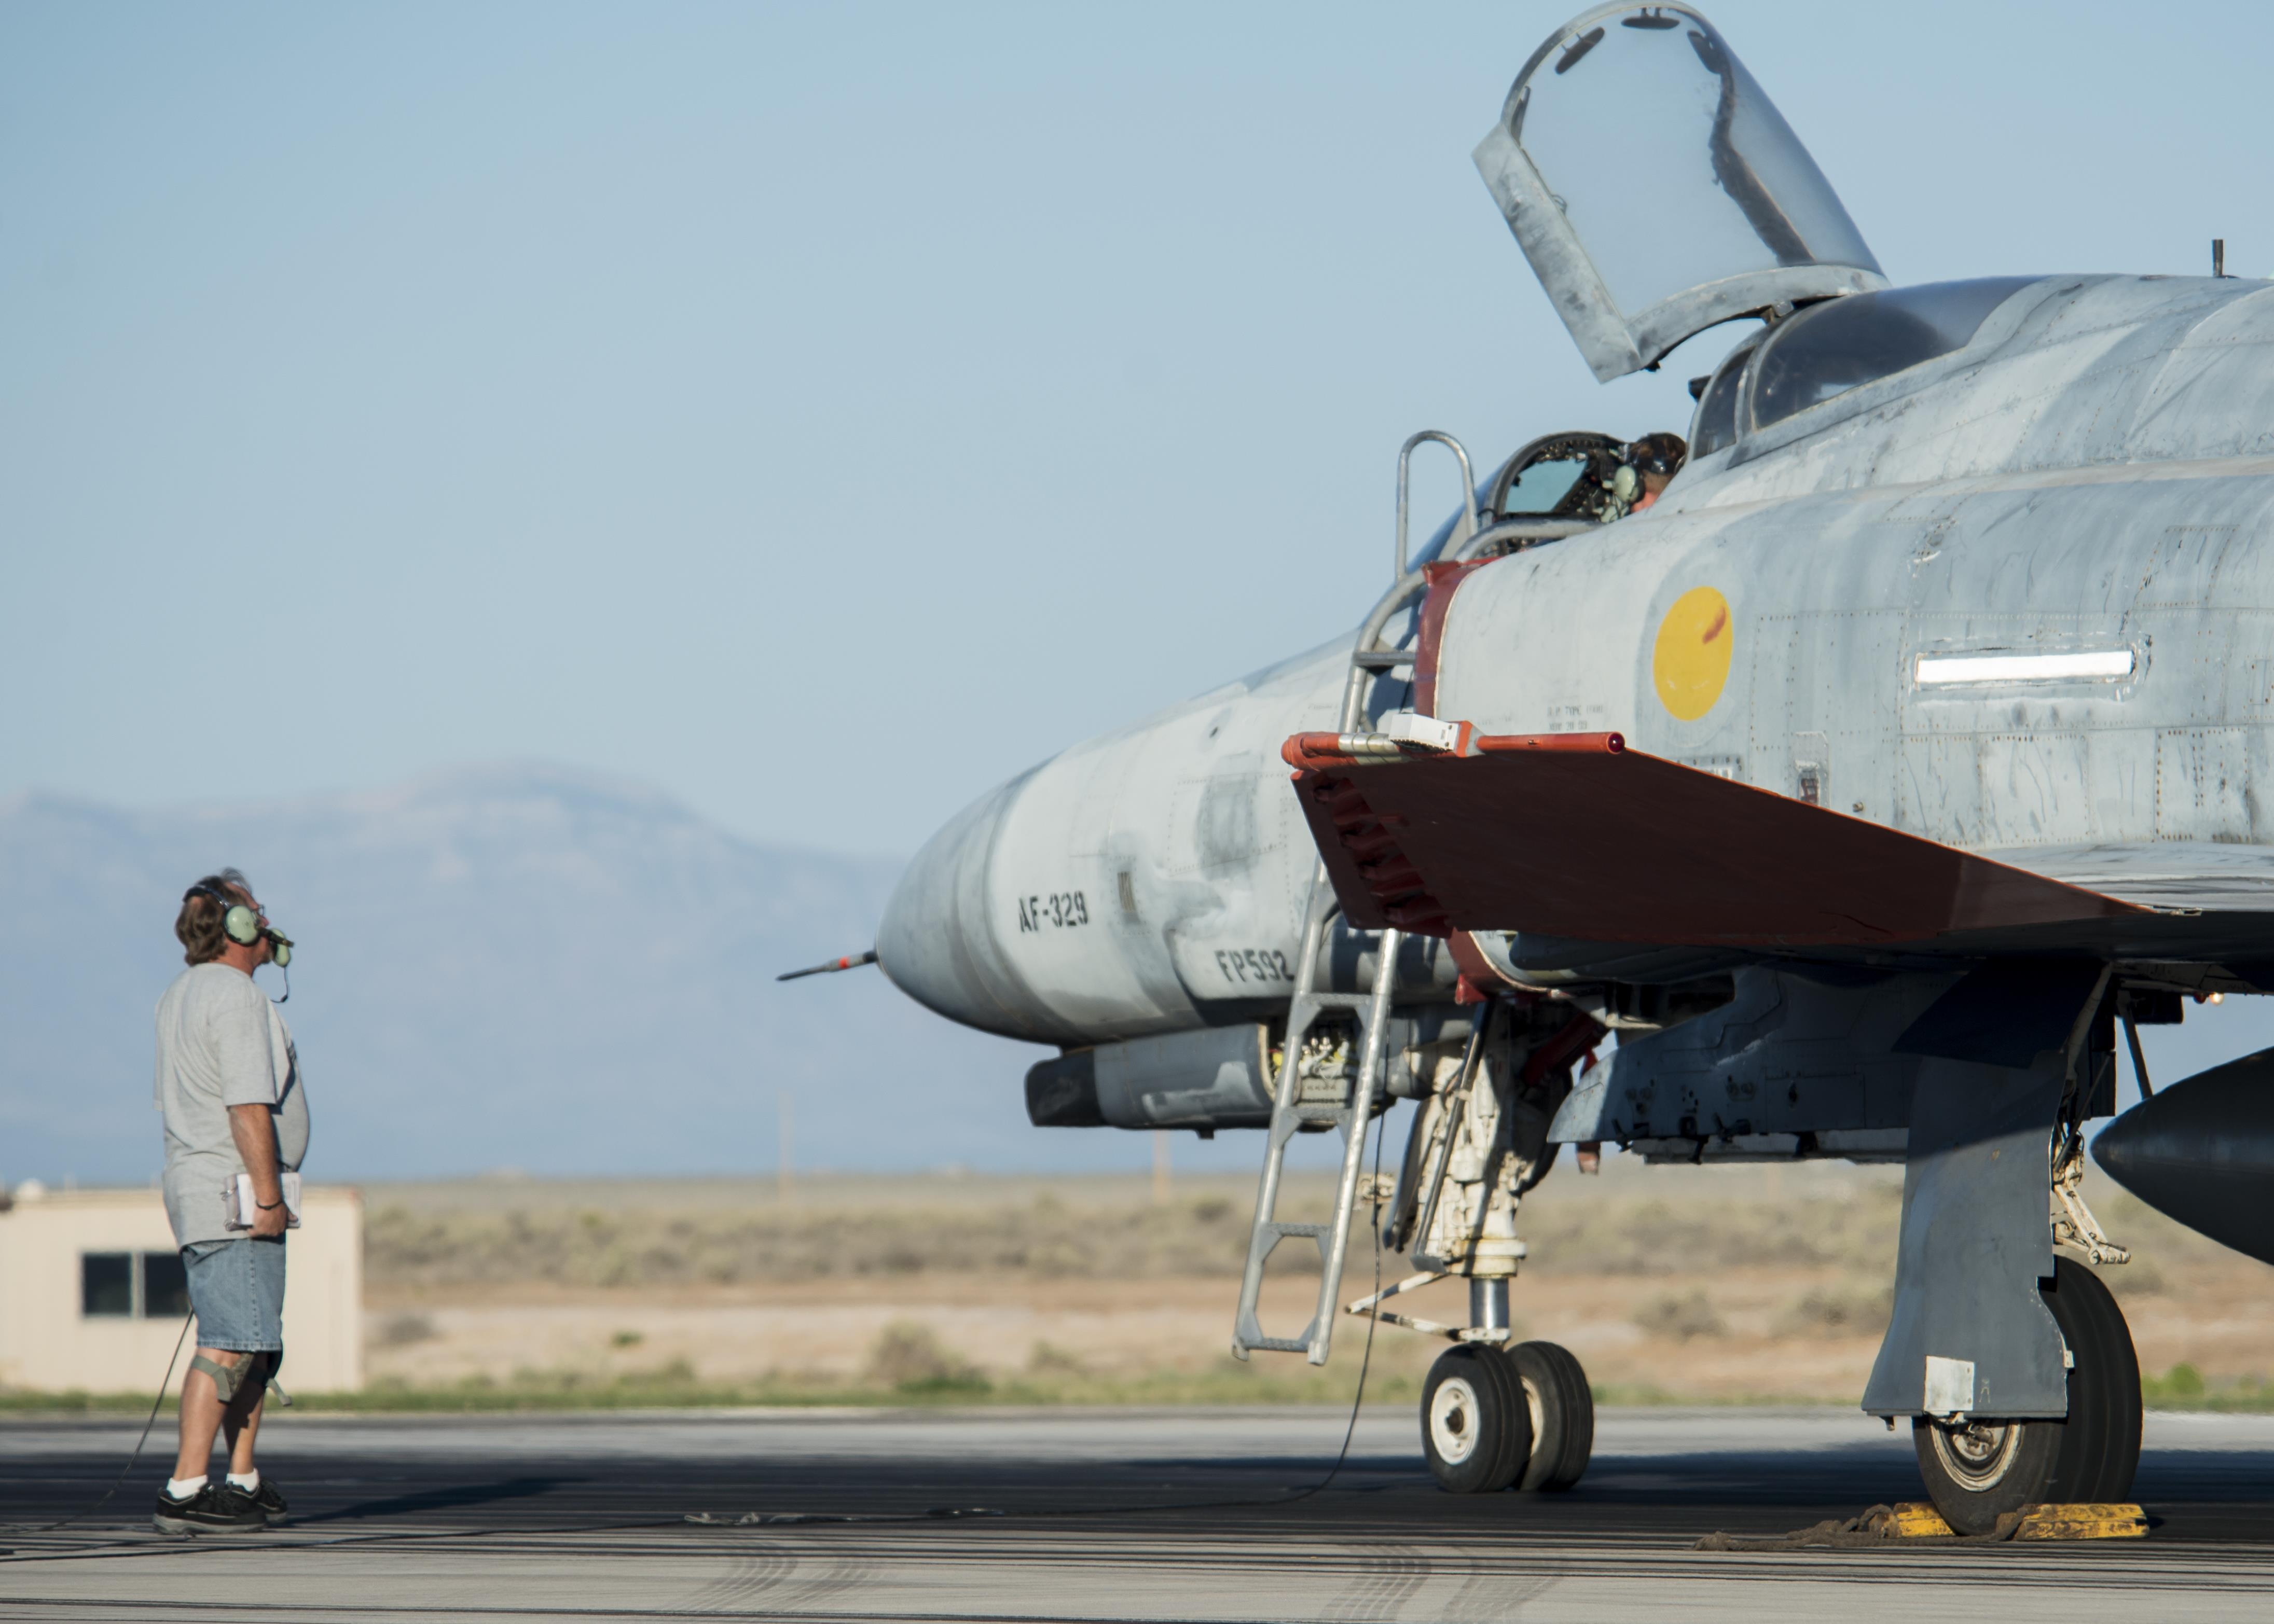F4: (773, 0, 2274, 1541)
